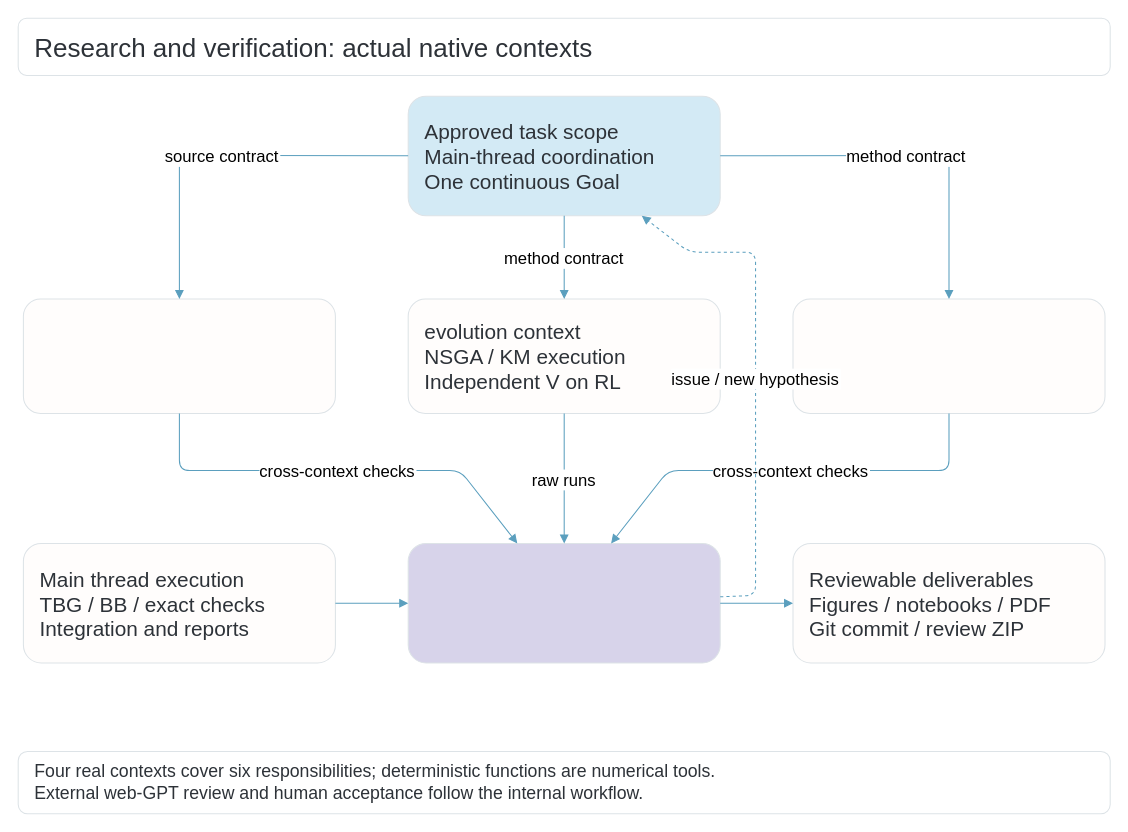
Some shapes in this 1128 by 832 pixel diagram are drawn without their labels. The shapes that lost their labels are listed below. From the top down, each one's centre as x and y in pixels, then its label:
point (178, 355): research_data context Teacher/source/data audit V/O on evolution
point (948, 355): reinforcement context Q-KM / extensions Independent V on online
point (563, 602): Independent references Raw input + target hashes Issues -> fix -> rerun
